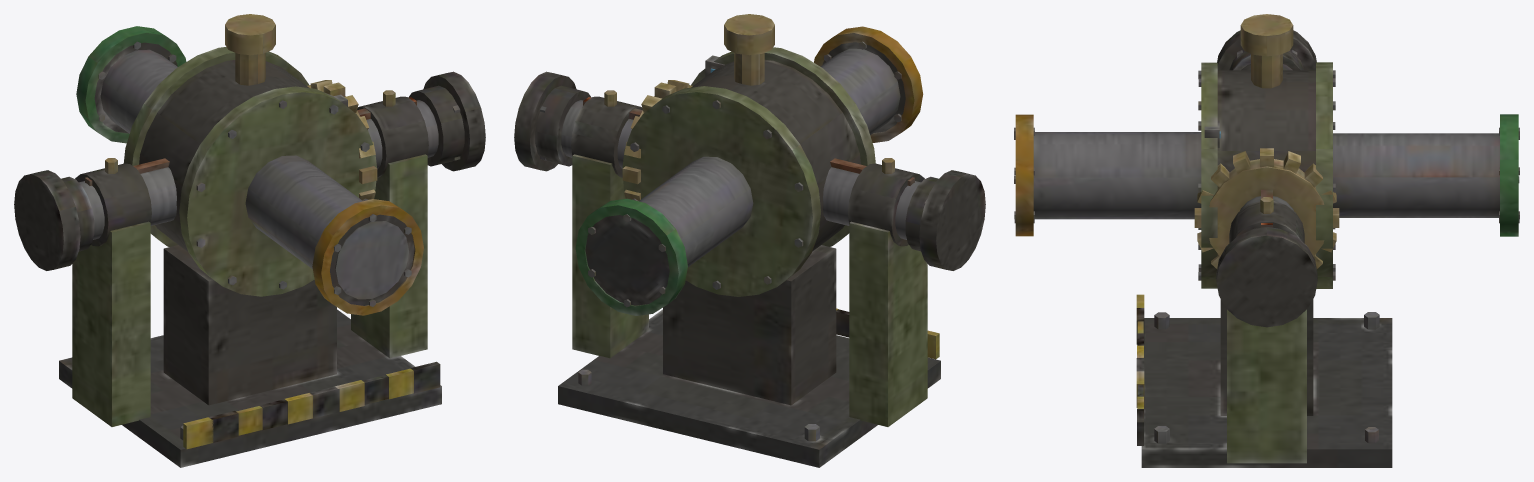
File: feMechPump.glb
3 views of the same model, side by side, from view 1: azimuth 30°, elevation 25°; view 2: azimuth 150°, elevation 25°; view 3: azimuth 270°, elevation 25° (orthographic). The views are drawn at different scales.
Parts seen in each view (by area): view 1: feMechPump_Base, FeSpin_PumpShaft; view 2: feMechPump_Base, FeSpin_PumpShaft; view 3: feMechPump_Base, FeSpin_PumpShaft.
Part boxes in pixels (<box>): feMechPump_Base: <box>59,14,441,467</box>; FeSpin_PumpShaft: <box>14,71,485,270</box>; feMechPump_Base: <box>558,14,940,467</box>; FeSpin_PumpShaft: <box>514,71,985,270</box>; feMechPump_Base: <box>1014,14,1519,467</box>; FeSpin_PumpShaft: <box>1194,30,1339,327</box>.
Bounding box in the file's own units: 1 × 0.833 × 1.01.
Materials: 2 (1 with a texture image).
